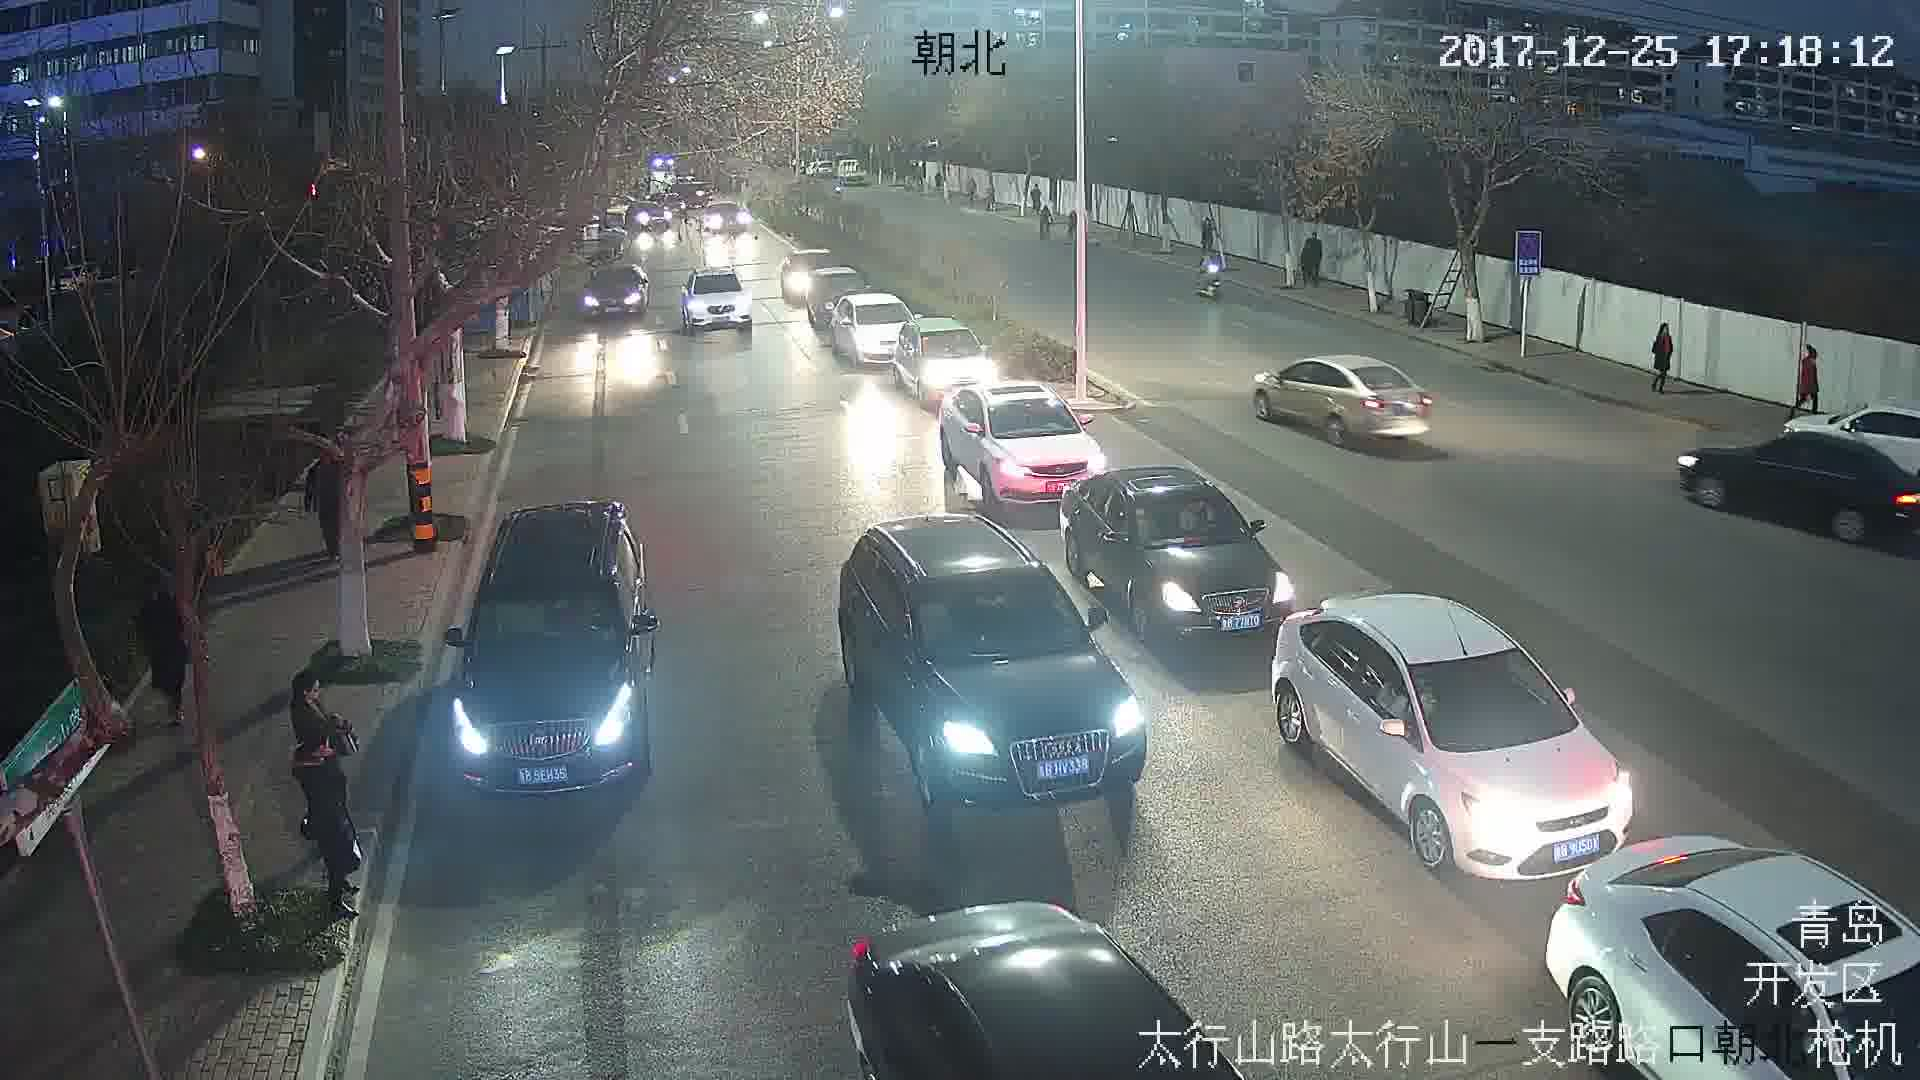car: (1285, 592, 1632, 878), (842, 514, 1146, 803), (445, 503, 657, 795), (1066, 467, 1296, 630), (939, 385, 1107, 500), (1253, 350, 1437, 450), (677, 269, 757, 332), (588, 264, 646, 317)
person: (291, 738, 371, 919), (291, 673, 355, 773), (1796, 346, 1818, 413), (1650, 324, 1670, 391)
